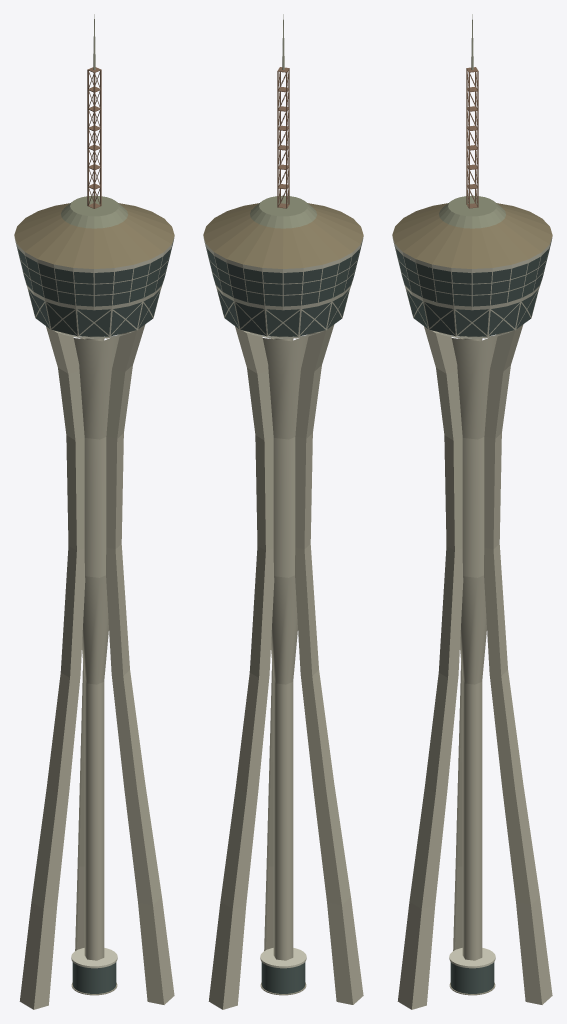
The model's file is strat-tower-las-vegas-far.glb.
3 renders of one model, left to right at view 1: azimuth 30°, elevation 25°; view 2: azimuth 150°, elevation 25°; view 3: azimuth 270°, elevation 25°, orthographic.
Parts seen in each view (by area): view 1: strat-tower-las-vegas-0-concrete, strat-tower-las-vegas-0-glass, strat-tower-las-vegas-0-bronze, strat-tower-las-vegas-0-trim, strat-tower-las-vegas-0-roof, strat-tower-las-vegas-0-ride; view 2: strat-tower-las-vegas-0-concrete, strat-tower-las-vegas-0-glass, strat-tower-las-vegas-0-bronze, strat-tower-las-vegas-0-trim, strat-tower-las-vegas-0-roof, strat-tower-las-vegas-0-ride; view 3: strat-tower-las-vegas-0-concrete, strat-tower-las-vegas-0-glass, strat-tower-las-vegas-0-bronze, strat-tower-las-vegas-0-trim, strat-tower-las-vegas-0-roof, strat-tower-las-vegas-0-ride.
Part boxes in pixels (<box>): strat-tower-las-vegas-0-concrete: <box>19,324,174,1009</box>; strat-tower-las-vegas-0-glass: <box>15,241,173,993</box>; strat-tower-las-vegas-0-bronze: <box>14,203,174,268</box>; strat-tower-las-vegas-0-trim: <box>14,236,174,968</box>; strat-tower-las-vegas-0-roof: <box>61,195,127,228</box>; strat-tower-las-vegas-0-ride: <box>87,67,101,208</box>; strat-tower-las-vegas-0-concrete: <box>208,324,363,1009</box>; strat-tower-las-vegas-0-glass: <box>204,241,362,993</box>; strat-tower-las-vegas-0-bronze: <box>203,203,363,268</box>; strat-tower-las-vegas-0-trim: <box>203,236,363,968</box>; strat-tower-las-vegas-0-roof: <box>250,195,316,228</box>; strat-tower-las-vegas-0-ride: <box>277,67,289,208</box>; strat-tower-las-vegas-0-concrete: <box>397,324,552,1009</box>; strat-tower-las-vegas-0-glass: <box>393,241,551,993</box>; strat-tower-las-vegas-0-bronze: <box>392,203,552,268</box>; strat-tower-las-vegas-0-trim: <box>392,236,552,968</box>; strat-tower-las-vegas-0-roof: <box>439,195,505,228</box>; strat-tower-las-vegas-0-ride: <box>466,67,478,208</box>.
Size of the model in its own units: 53.45 by 350 by 52.4.
